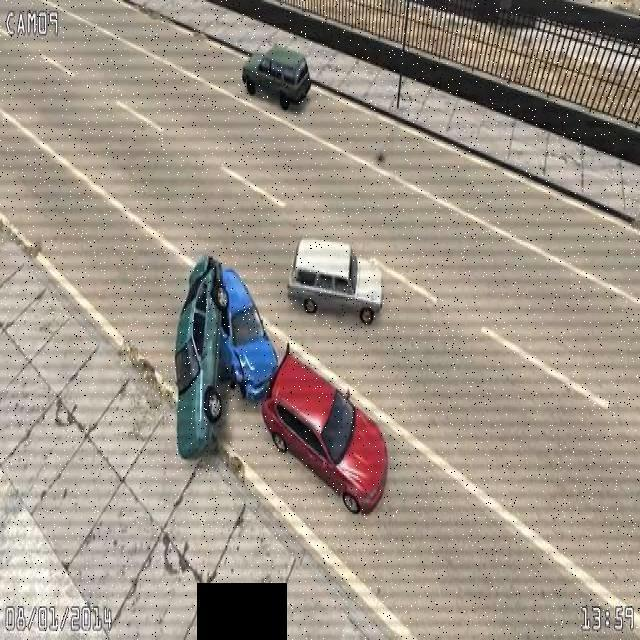person: (176, 242, 232, 472)
vehicle: (228, 304, 402, 516)
